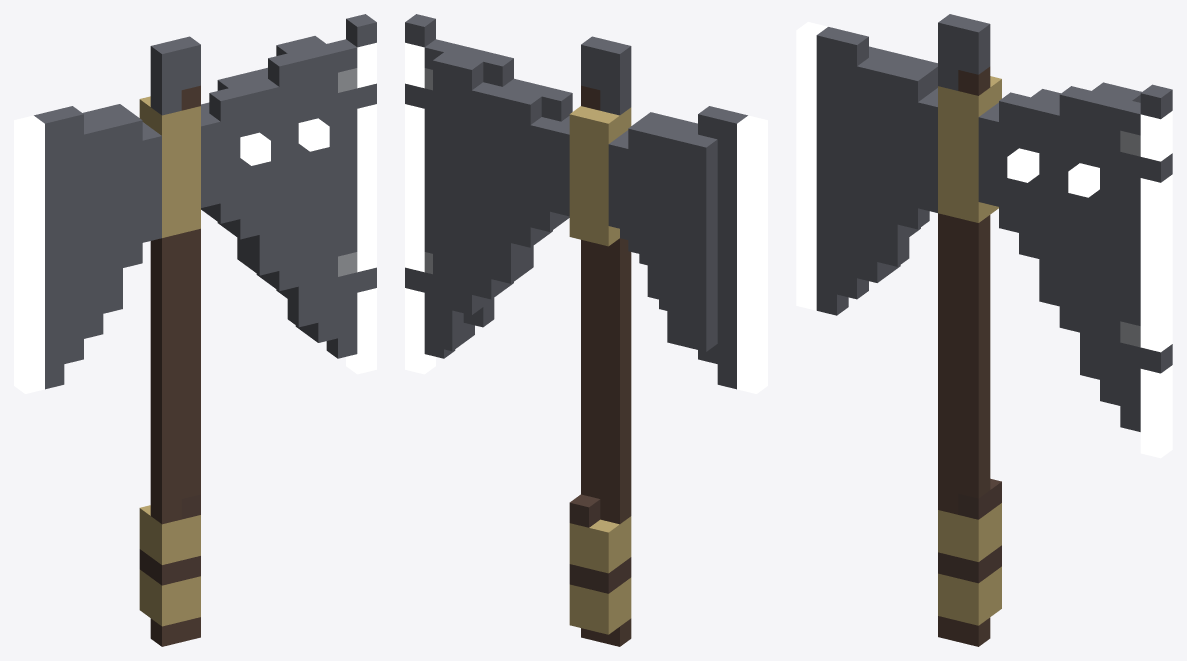
The model's file is axe_legendary_lod1.glb.
3 renders of one model, left to right at view 1: azimuth 30°, elevation 25°; view 2: azimuth 150°, elevation 25°; view 3: azimuth 330°, elevation 25°, orthographic. The views are drawn at different scales.
Visible parts, largest first — view 1: axe_legendary_lod1; view 2: axe_legendary_lod1; view 3: axe_legendary_lod1.
Boxes of the visible parts, <box> form: axe_legendary_lod1: <box>14,14,376,646</box>; axe_legendary_lod1: <box>405,14,767,646</box>; axe_legendary_lod1: <box>796,14,1172,646</box>.
Size of the model in its own units: 0.54 by 0.87 by 0.09.
